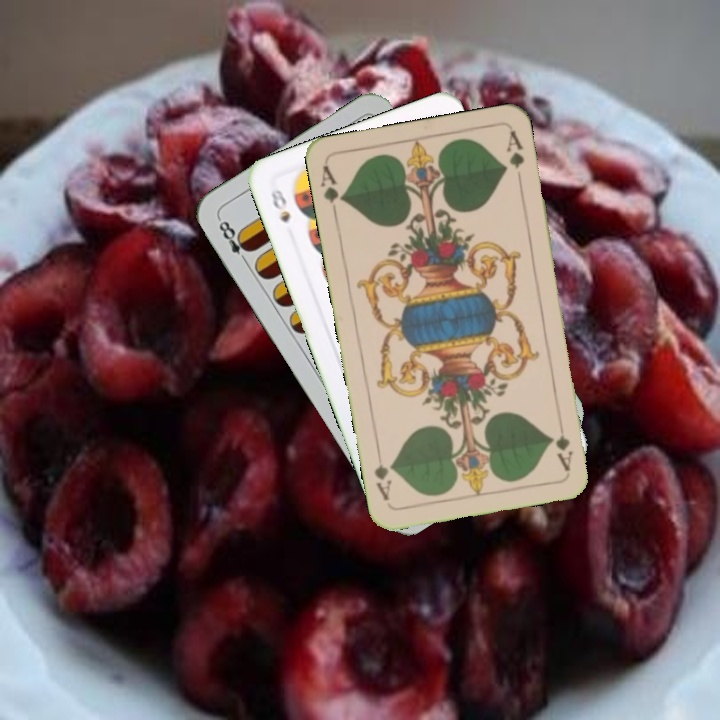E8: (214, 214, 254, 267)
GA: (317, 161, 348, 220), (552, 414, 576, 473)
S8: (266, 185, 293, 226)
